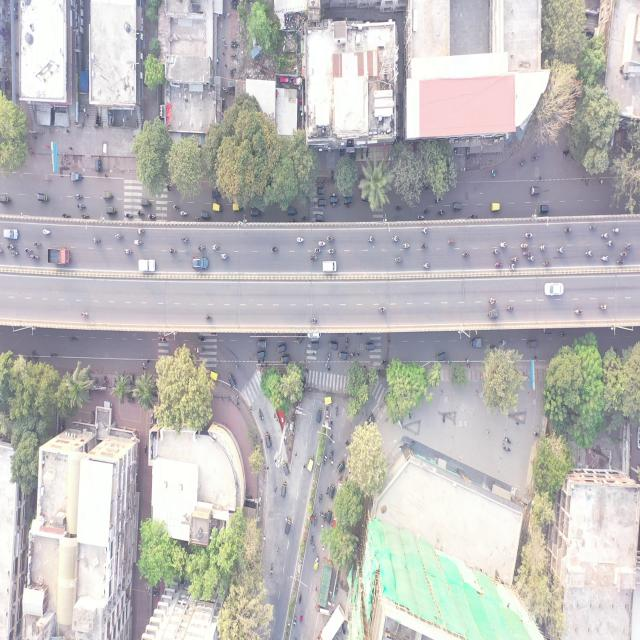3W: (265, 432, 272, 449), (307, 456, 314, 472), (281, 481, 287, 499), (228, 374, 235, 389), (316, 407, 322, 424), (103, 190, 112, 201), (282, 461, 288, 477), (488, 309, 498, 318), (212, 203, 222, 212), (201, 210, 210, 220), (490, 202, 500, 211), (285, 520, 291, 534), (277, 344, 286, 353), (38, 194, 48, 202), (106, 206, 116, 214), (140, 198, 150, 206), (527, 340, 537, 348), (437, 351, 445, 361), (281, 354, 289, 364), (257, 350, 265, 360), (94, 158, 100, 171), (288, 206, 296, 215), (330, 196, 339, 204), (531, 186, 540, 194), (540, 204, 548, 213), (365, 343, 374, 351), (329, 342, 338, 350), (258, 339, 266, 348), (317, 187, 325, 195), (316, 214, 324, 222), (344, 197, 352, 205), (454, 202, 462, 210), (340, 352, 348, 360), (311, 342, 319, 350), (318, 199, 327, 206)
Cars: (545, 283, 564, 296), (192, 256, 208, 269), (138, 259, 155, 271), (322, 260, 338, 272), (2, 230, 18, 240)
LCV: (470, 337, 482, 348), (71, 173, 81, 181)
M2W: (42, 227, 51, 237), (77, 201, 87, 210), (330, 484, 335, 501), (270, 245, 279, 254), (74, 192, 84, 200), (197, 243, 207, 251), (81, 212, 90, 220), (125, 247, 134, 255), (180, 235, 189, 243), (327, 234, 336, 242), (30, 254, 40, 261), (134, 238, 144, 245), (211, 243, 221, 250), (259, 408, 264, 422), (327, 510, 332, 524), (148, 211, 156, 219), (137, 226, 145, 234), (424, 260, 432, 268), (378, 306, 386, 314), (520, 242, 528, 250), (585, 249, 593, 257), (607, 239, 615, 247), (599, 302, 607, 310), (62, 211, 71, 218), (124, 212, 133, 219), (169, 247, 178, 254), (309, 255, 318, 262), (10, 250, 20, 256), (329, 449, 334, 461), (33, 241, 41, 248), (24, 247, 32, 254), (92, 237, 100, 244), (221, 253, 229, 260), (296, 237, 304, 244), (318, 239, 326, 246), (314, 246, 322, 253), (205, 314, 212, 322), (391, 234, 399, 241), (402, 242, 410, 249), (500, 240, 507, 248), (525, 232, 533, 239), (564, 226, 572, 233), (612, 226, 620, 233), (574, 308, 582, 315), (490, 297, 498, 304), (115, 233, 124, 239), (326, 352, 331, 362), (334, 406, 339, 416), (7, 243, 14, 250), (328, 247, 335, 254), (493, 248, 500, 255), (172, 204, 179, 211), (438, 209, 445, 216), (137, 210, 145, 216), (494, 260, 502, 266), (528, 254, 536, 260), (522, 250, 530, 256), (589, 224, 597, 230), (602, 232, 608, 240), (601, 255, 609, 261), (624, 243, 632, 249), (434, 198, 442, 204), (270, 562, 274, 574), (532, 153, 538, 161), (50, 352, 58, 358), (318, 492, 322, 503), (310, 317, 317, 323), (396, 255, 402, 262), (462, 251, 469, 257), (509, 263, 516, 269), (540, 245, 547, 251), (194, 216, 201, 222), (469, 213, 476, 219), (518, 160, 524, 167), (381, 359, 387, 366), (510, 256, 518, 261), (556, 247, 564, 252), (620, 252, 628, 257), (180, 211, 188, 216), (292, 616, 296, 626), (368, 236, 374, 242), (543, 260, 549, 266), (507, 305, 513, 311), (423, 208, 429, 214), (329, 432, 332, 444), (310, 534, 313, 546), (299, 593, 302, 605), (300, 611, 303, 623), (422, 228, 429, 233), (420, 243, 427, 248), (447, 239, 454, 244), (618, 259, 625, 264), (395, 205, 402, 210), (499, 340, 506, 345), (314, 515, 317, 526), (345, 337, 348, 348), (80, 312, 88, 316), (418, 214, 424, 219), (559, 332, 565, 337), (330, 419, 333, 429), (324, 456, 327, 466), (312, 542, 315, 552), (302, 216, 308, 221), (70, 337, 76, 342)
Truck: (48, 248, 70, 264)
